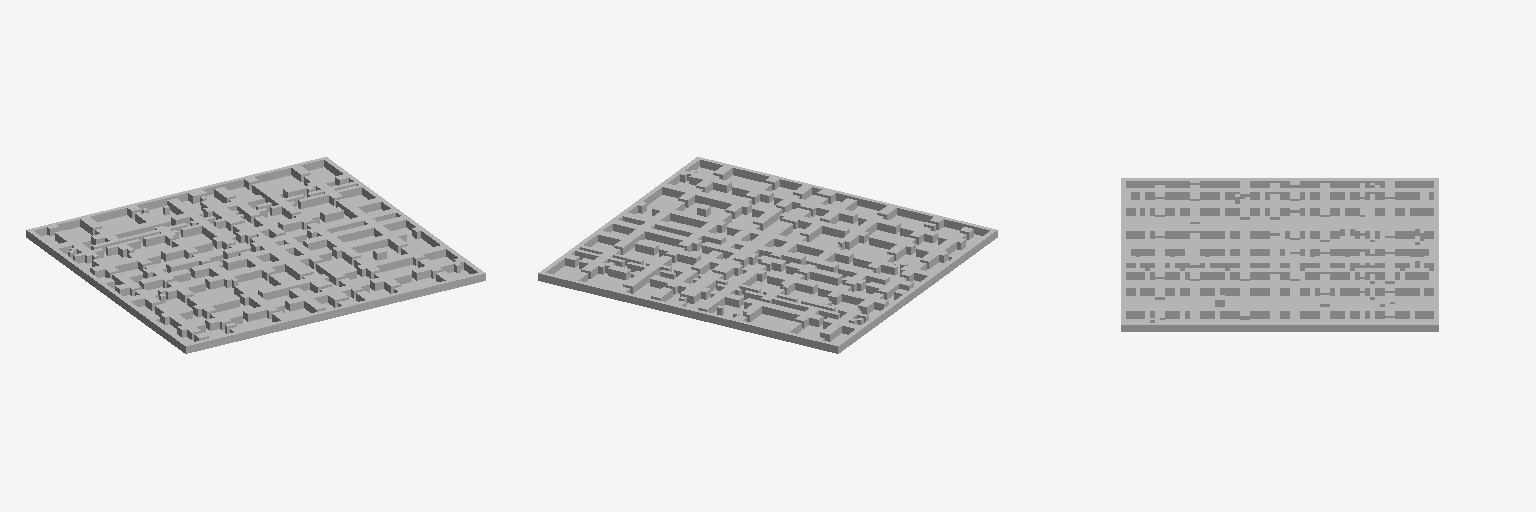
The model's file is backrooms.obj.
3 renders of one model, left to right at view 1: azimuth 30°, elevation 25°; view 2: azimuth 150°, elevation 25°; view 3: azimuth 270°, elevation 25°, orthographic.
Visible parts, largest first — view 1: Plane; view 2: Plane; view 3: Plane.
Boxes of the visible parts, x1,y1,x2,y2 form: Plane: [26, 157, 485, 353]; Plane: [538, 157, 997, 353]; Plane: [1121, 178, 1438, 331].
Size of the model in its own units: 261 by 7.32 by 240.